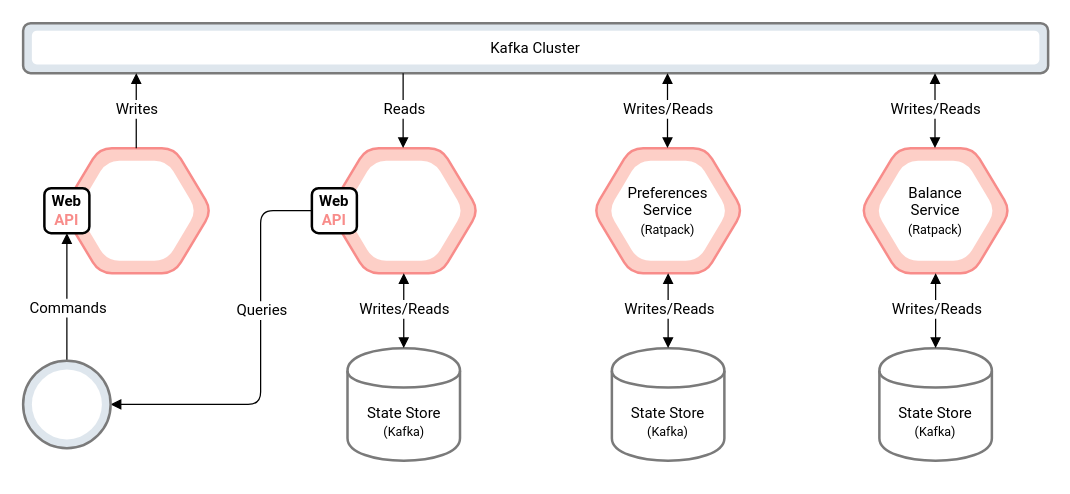
Image size: 1070x494. Some labels were removed from this diagram. Each missing label, with the centre of its shape:
"Client" goes at (x=66, y=404).
"Command Service (Ratpack)" goes at (x=136, y=210).
"Query Service (Ratpack)" goes at (x=403, y=210).
